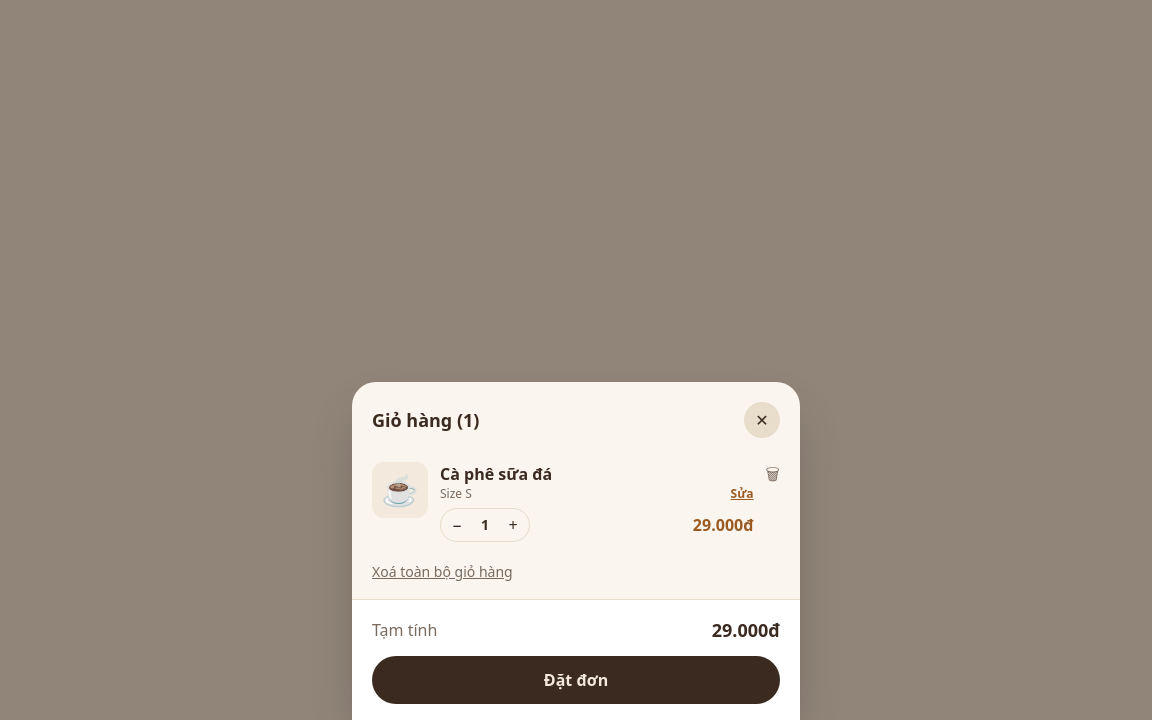
Test case: CartSheet - sửa size/topping › mở được màn hình sửa và đổi size
Expected: the text "Cà phê sữa đá" is shown, [440, 463, 552, 485]
What coordinates should you click on to do the following:
click the button with aria-label "Sửa Cà phê sữa đá"
I would click on:
 (742, 494)
Its box is [731, 486, 754, 502].
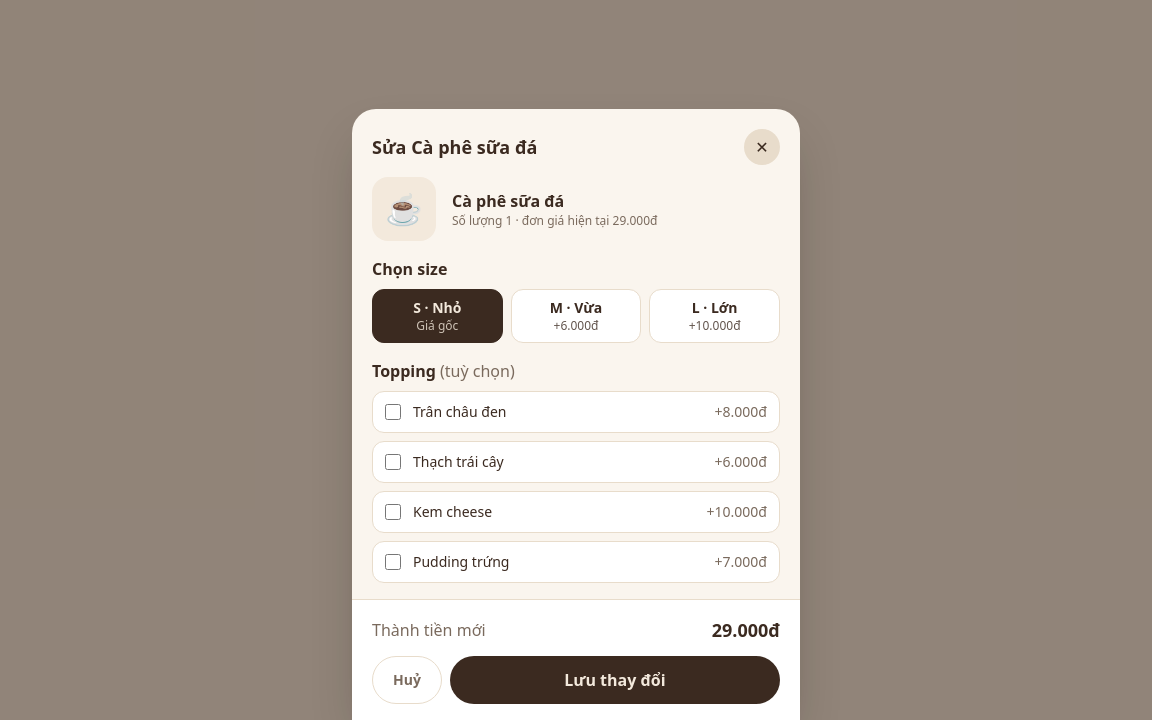
Expected: the heading "Sửa Cà phê sữa đá" is shown, [372, 133, 537, 161]
What coordinates should you click on to do the following:
click the radio button labelled "L · Lớn +10.000đ"
I would click on:
 (715, 316)
Its box is [649, 289, 780, 343].
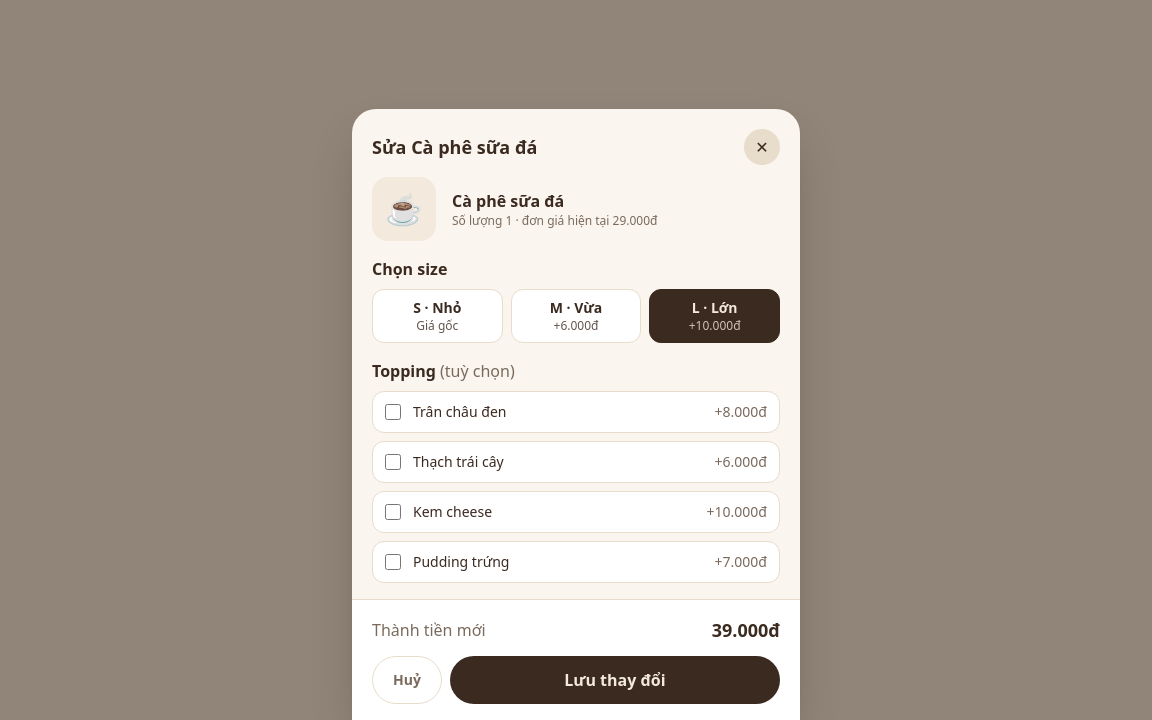
What coordinates should you click on to do the following:
click the button "Lưu thay đổi"
I would click on:
 (615, 680)
Its box is [450, 656, 780, 704].
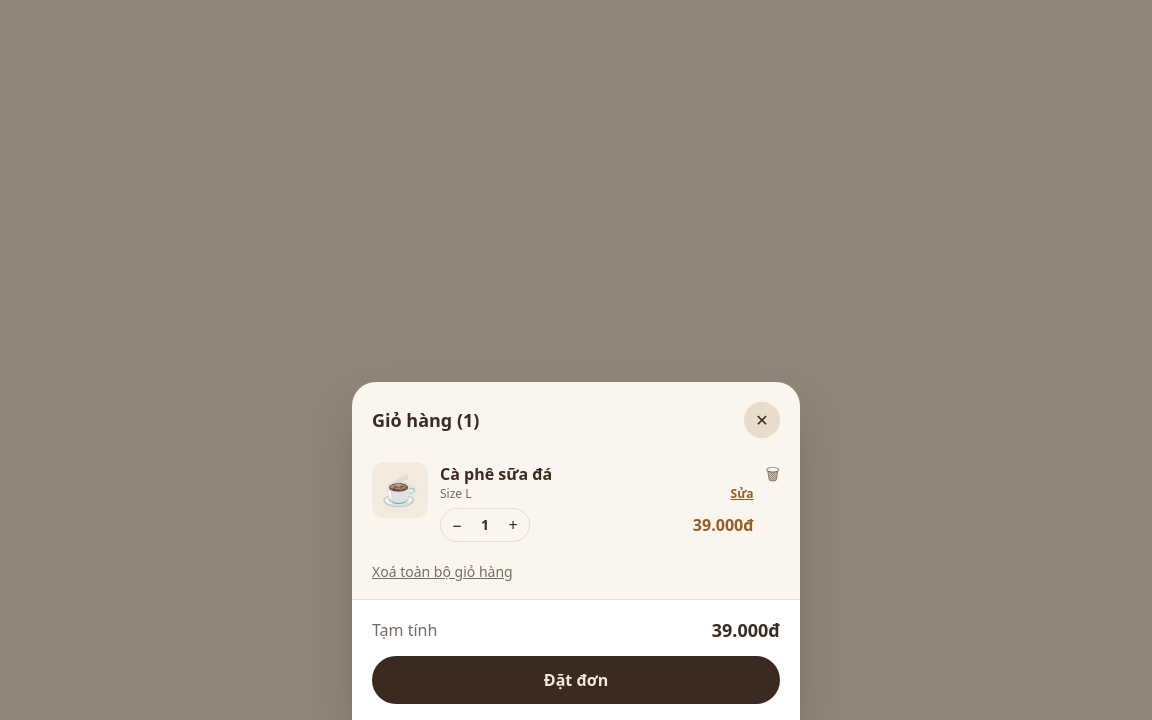
Expected: the text "Size L" is shown, [440, 486, 472, 502]
Expected: the text "39.000đ" below "Size" is shown, [693, 514, 754, 536]
